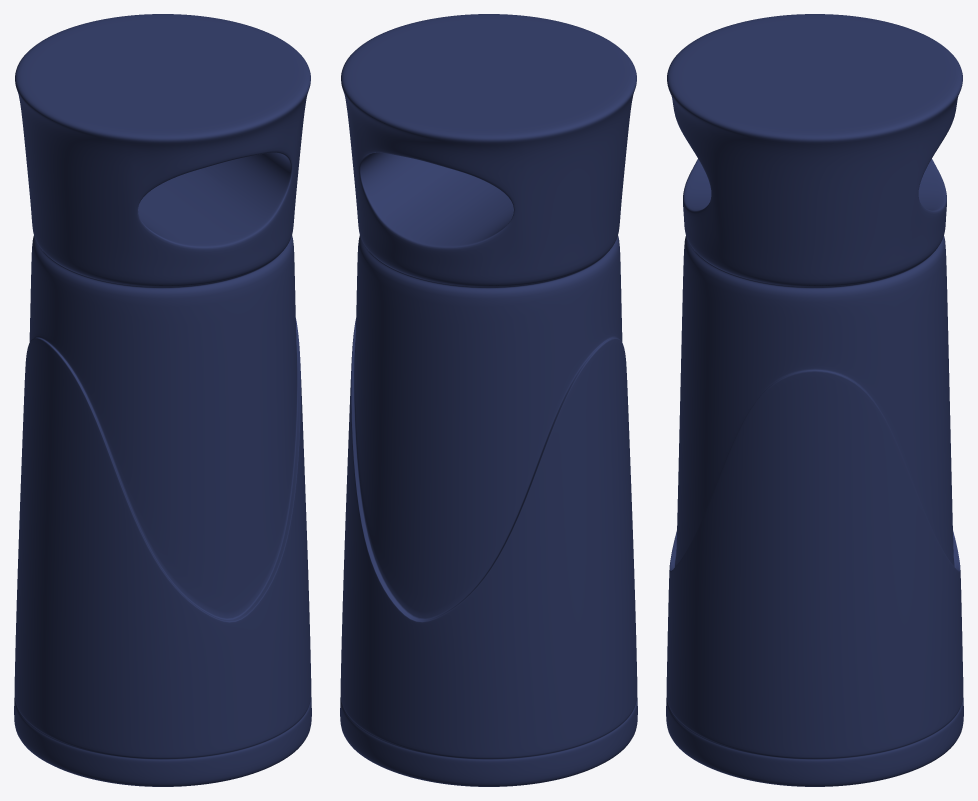
3 views of the same model, side by side, from view 1: azimuth 30°, elevation 25°; view 2: azimuth 150°, elevation 25°; view 3: azimuth 270°, elevation 25° (orthographic).
Parts seen in each view (by area): view 1: Object_2; view 2: Object_2; view 3: Object_2.
Part boxes in pixels (x1,y1,x2,y2): Object_2: [14, 14, 311, 786]; Object_2: [340, 14, 637, 786]; Object_2: [666, 14, 963, 786].
Bounding box in the file's own units: 720 × 1742 × 720.
